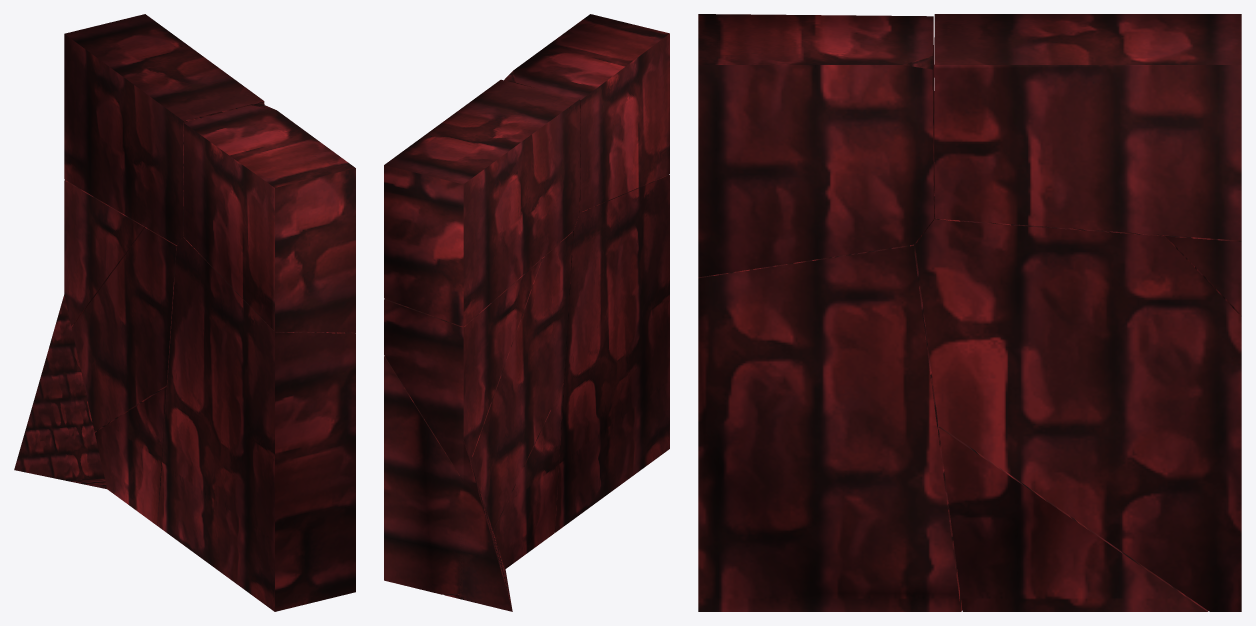
The model's file is BLK2.fbx.
3 views of the same model, side by side, from view 1: azimuth 30°, elevation 25°; view 2: azimuth 150°, elevation 25°; view 3: azimuth 270°, elevation 25° (orthographic). The views are drawn at different scales.
Visible parts, largest first — view 1: Block_LOD0.009, Block_LOD0.010, Block_LOD0.011, Block_LOD0.012, Block_LOD0.015, Block_LOD0.013, Block_LOD0.014; view 2: Block_LOD0.011, Block_LOD0.009, Block_LOD0.012, Block_LOD0.010, Block_LOD0.013, Block_LOD0.014, Block_LOD0.015; view 3: Block_LOD0.012, Block_LOD0.009, Block_LOD0.011, Block_LOD0.010, Block_LOD0.014, Block_LOD0.013.
Part boxes in pixels (x1,y1,x2,y2): Block_LOD0.009: (157,237,355,611); Block_LOD0.010: (183,105,355,332); Block_LOD0.011: (64,14,264,244); Block_LOD0.012: (71,226,177,431); Block_LOD0.015: (14,295,106,488); Block_LOD0.013: (64,180,144,326); Block_LOD0.014: (95,387,167,525); Block_LOD0.011: (384,79,579,326); Block_LOD0.009: (554,175,669,532); Block_LOD0.012: (384,231,573,594); Block_LOD0.010: (504,14,669,212); Block_LOD0.013: (384,259,541,480); Block_LOD0.014: (444,383,563,599); Block_LOD0.015: (459,441,512,611); Block_LOD0.012: (915,199,1241,611); Block_LOD0.009: (698,193,962,611); Block_LOD0.011: (934,14,1241,240); Block_LOD0.010: (698,14,934,277); Block_LOD0.014: (938,426,1208,611); Block_LOD0.013: (1161,235,1241,316).
Size of what is drawn, in the model's own units: 32.38 by 100 by 90.
